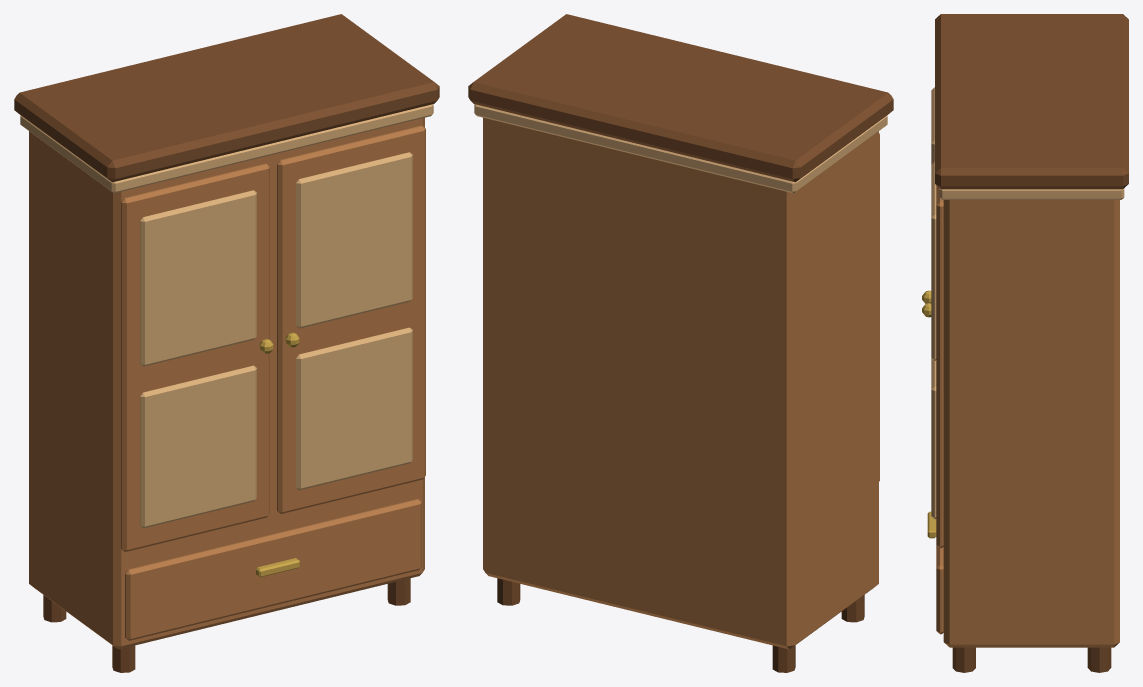
Rendered from home_wardrobe_v01.glb.
The picture shows the model from 3 angles, left to right: view 1: azimuth 30°, elevation 25°; view 2: azimuth 150°, elevation 25°; view 3: azimuth 270°, elevation 25°; orthographic projection. The views are drawn at different scales.
Visible parts, largest first — view 1: wardrobe; view 2: wardrobe; view 3: wardrobe.
Boxes of the visible parts, x1=… form: wardrobe: x1=14, y1=14, x2=439, y2=672; wardrobe: x1=468, y1=14, x2=893, y2=672; wardrobe: x1=922, y1=14, x2=1128, y2=672.
Bounding box in the file's own units: 1.28 × 1.92 × 0.7038.
